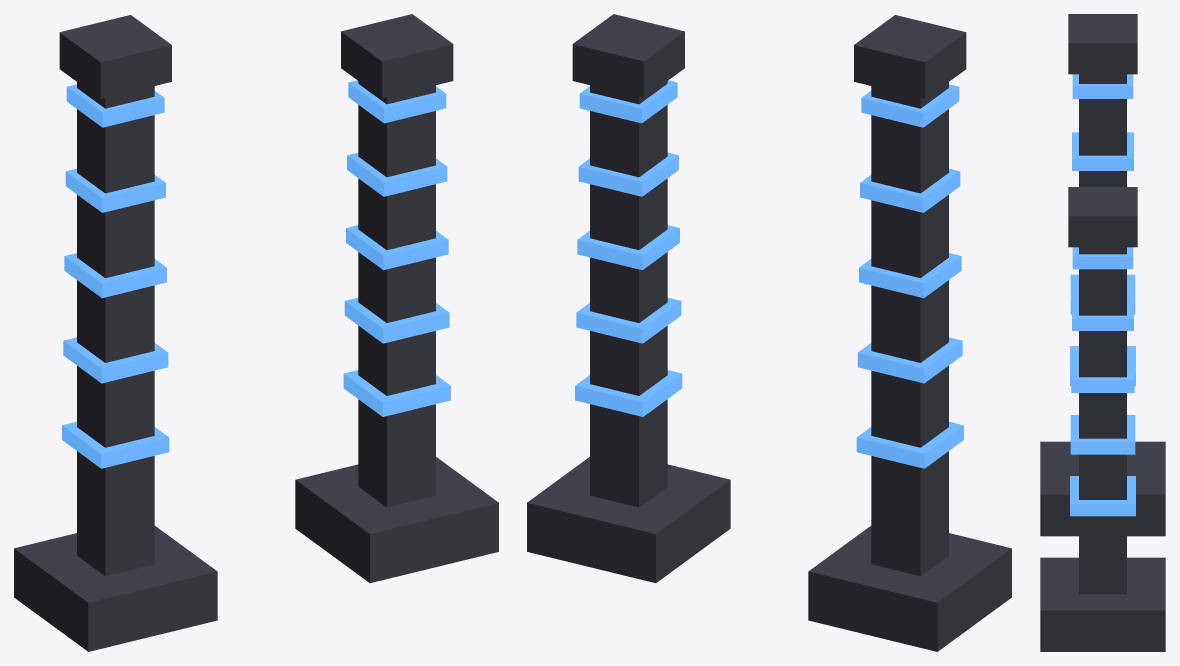
File: runtime.glb
The picture shows the model from 3 angles, left to right: view 1: azimuth 30°, elevation 25°; view 2: azimuth 150°, elevation 25°; view 3: azimuth 270°, elevation 25°; orthographic projection. The views are drawn at different scales.
Visible parts, largest first — view 1: neon_pylon_post_nocol, neon_pylon_band_blue_noshadow_nocol; view 2: neon_pylon_post_nocol, neon_pylon_band_blue_noshadow_nocol; view 3: neon_pylon_post_nocol, neon_pylon_band_blue_noshadow_nocol.
Part boxes in pixels (x1=…): neon_pylon_post_nocol: x1=14, y1=14, x2=498, y2=651; neon_pylon_band_blue_noshadow_nocol: x1=62, y1=80, x2=450, y2=468; neon_pylon_post_nocol: x1=527, y1=14, x2=1011, y2=651; neon_pylon_band_blue_noshadow_nocol: x1=575, y1=80, x2=963, y2=468; neon_pylon_post_nocol: x1=1040, y1=14, x2=1165, y2=651; neon_pylon_band_blue_noshadow_nocol: x1=1070, y1=74, x2=1135, y2=516.
Size of the model in its own units: 3.5 by 4.65 by 1.1.
